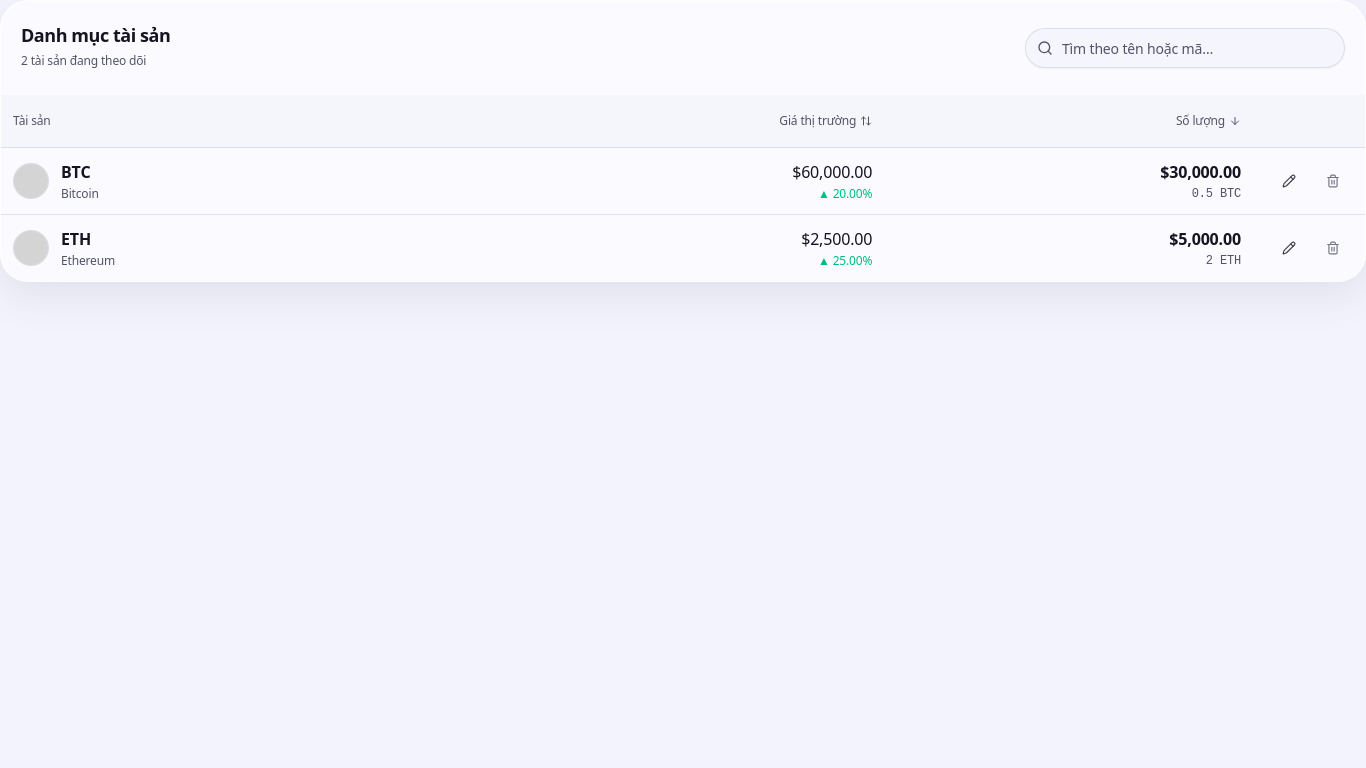
Scenario: DashboardHoldingsTable › explains that deleting a position deletes its full transaction history
The image size is (1366, 768).
Step 1. Click the button named "Xóa lịch sử ETH" → (1333, 248), box [1313,228,1353,268]
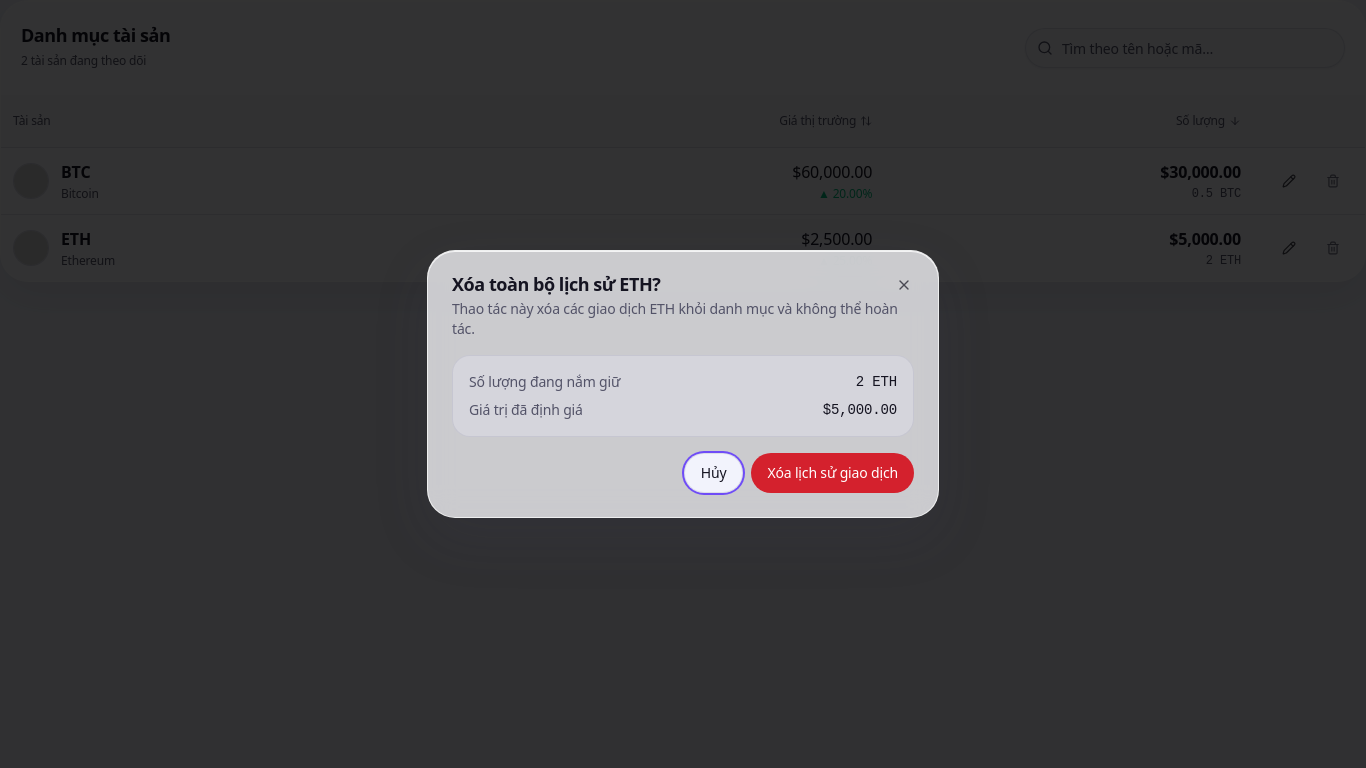
Now the dialog "Xóa toàn bộ lịch sử ETH?" is shown, box [427,250,939,518]
Now the text "xóa các giao dịch ETH khỏi danh mục và không thể hoàn tác" is shown, box [452,299,914,339]
